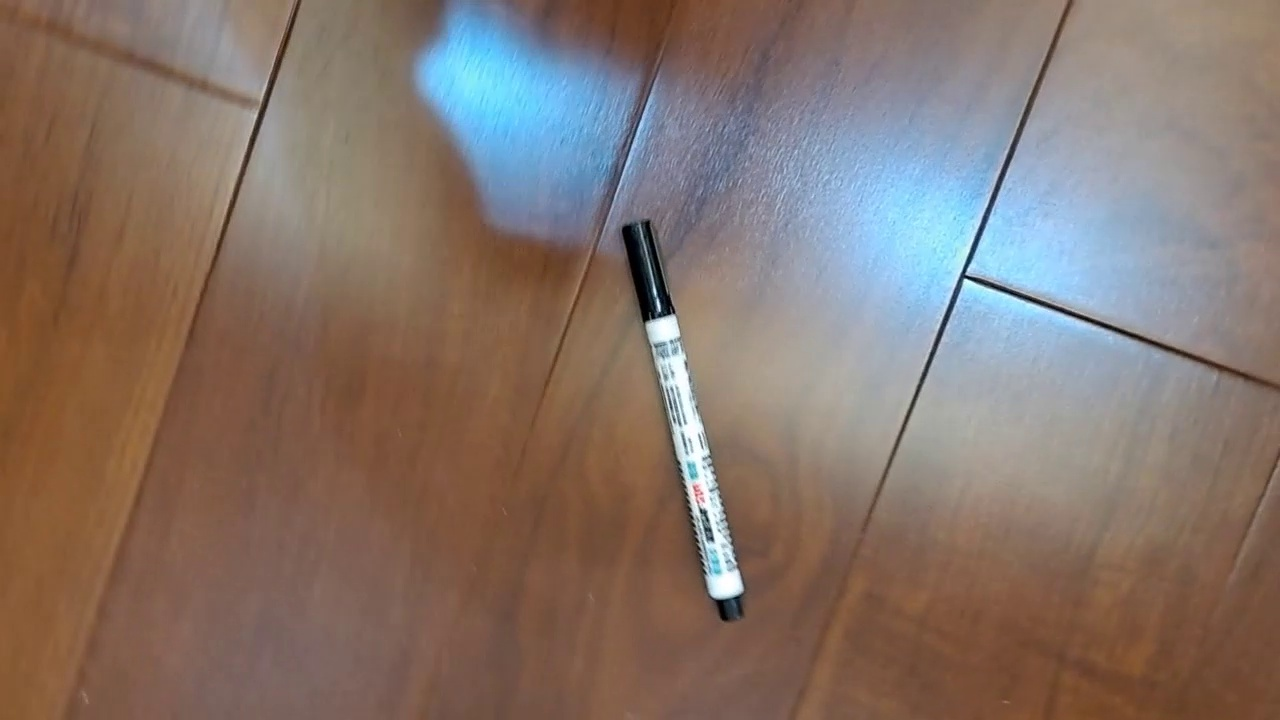pen: (619, 218, 747, 624)
